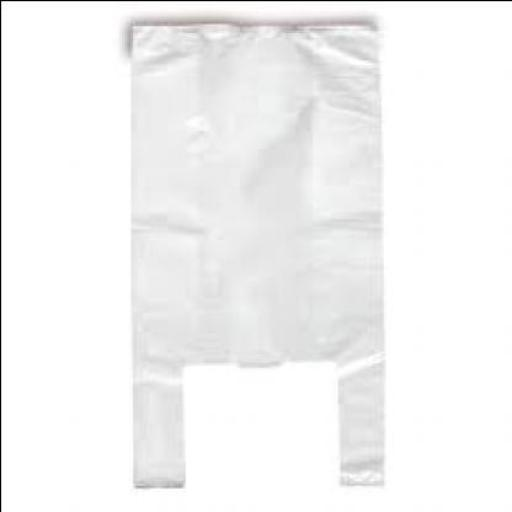plastic: (130, 25, 389, 492)
